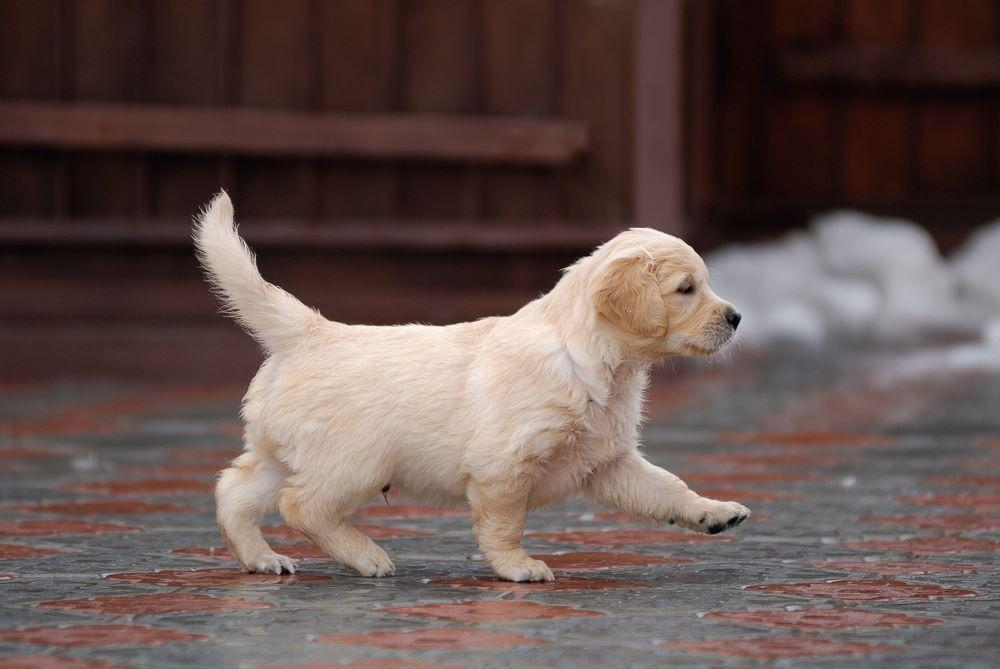puppy-dog: (185, 179, 764, 593)
